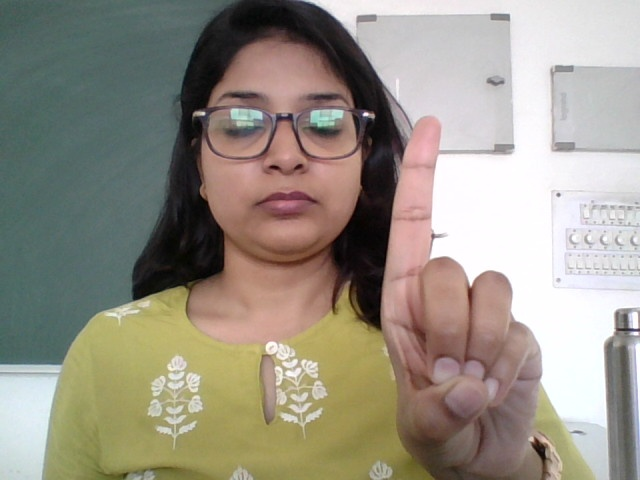D: (383, 116, 551, 468)
